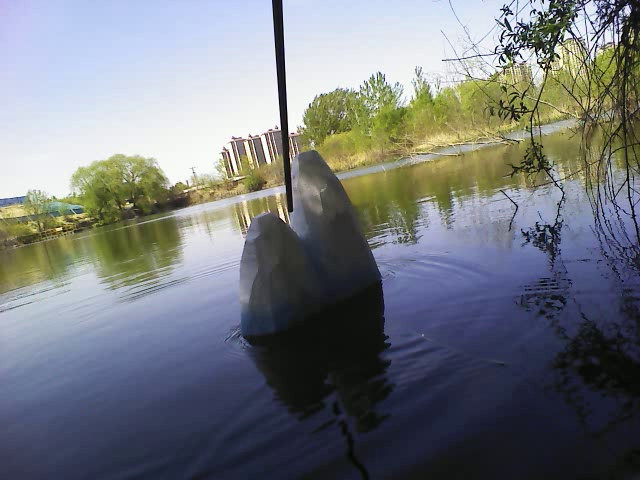iceberg: (226, 145, 388, 342)
